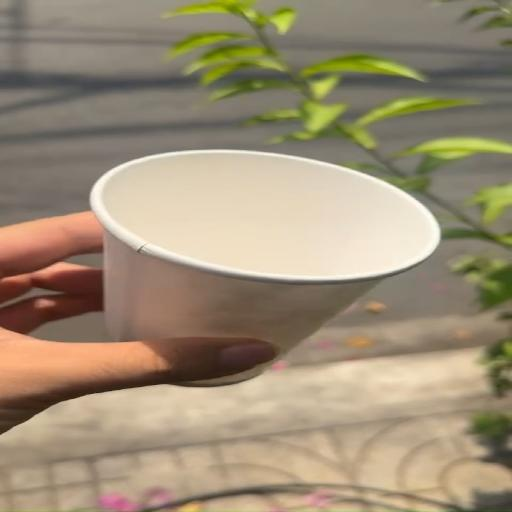Ly_giay: (91, 149, 439, 355)
